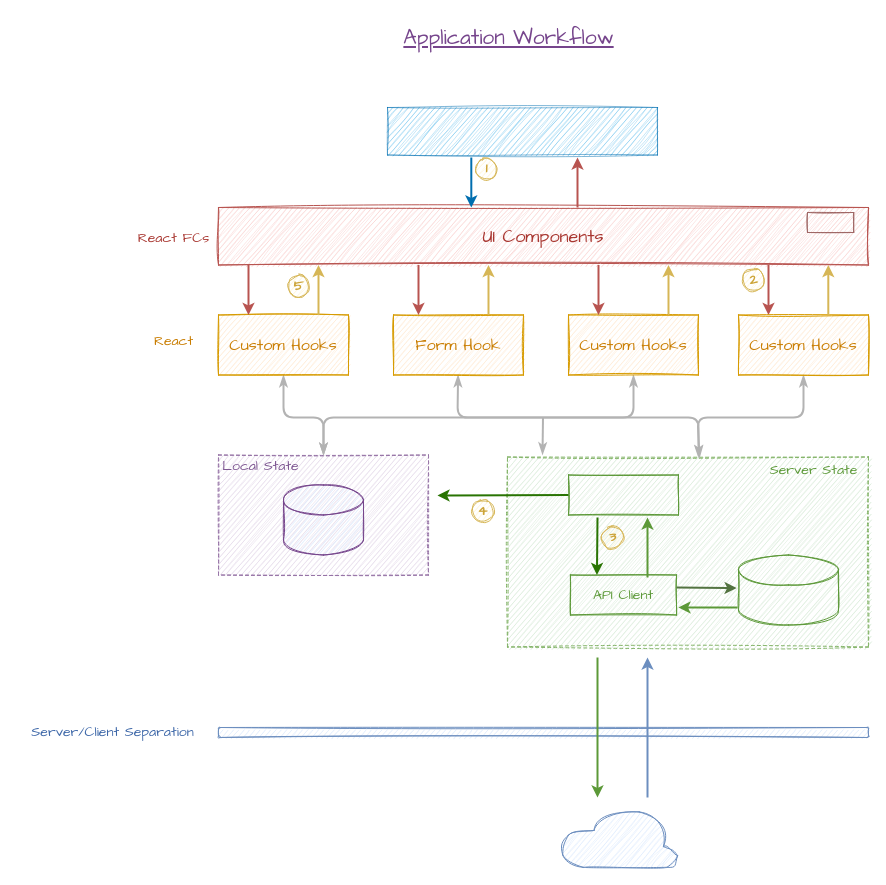
The diagram is 886 pixels wide and 885 high, and some of its shapes have lost their labels. Here are the shapes that lost their labels. From the top down, the centre of each, then its label:
At (x=522, y=130): "Application Users".
At (x=830, y=222): "TSX".
At (x=623, y=494): "React Query".
At (x=323, y=519): "Zustand".
At (x=788, y=589): "React Query Cache".
At (x=618, y=837): "API".
